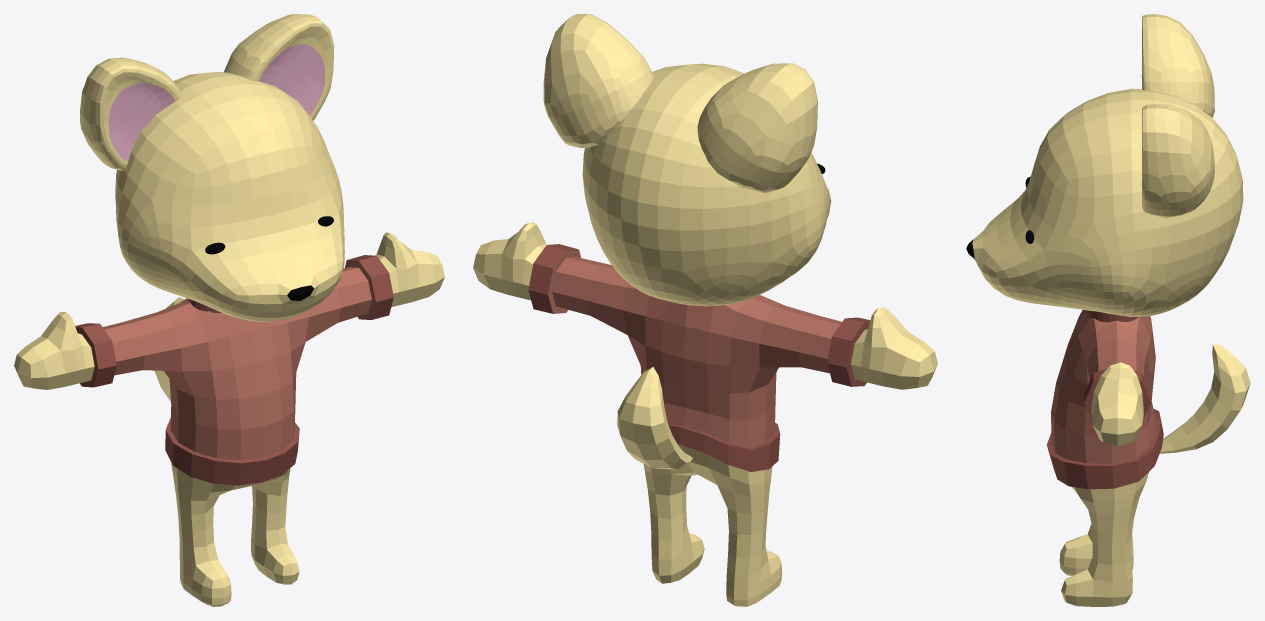
File: apolo.fbx
The picture shows the model from 3 angles, left to right: view 1: azimuth 30°, elevation 25°; view 2: azimuth 150°, elevation 25°; view 3: azimuth 270°, elevation 25°; orthographic projection. The views are drawn at different scales.
Visible parts, largest first — view 1: pCube10.001; view 2: pCube10.001; view 3: pCube10.001.
Part boxes in pixels (x1,y1,x2,y2): pCube10.001: (14,14,444,606); pCube10.001: (473,14,937,606); pCube10.001: (966,14,1250,606).
Bounding box in the file's own units: 956 × 1136 × 554.
